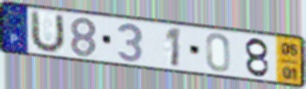0: (205, 32, 233, 74)
1: (161, 26, 183, 69)
3: (116, 21, 145, 64)
8: (68, 15, 98, 58), (244, 37, 270, 78)
U: (29, 9, 67, 55)
